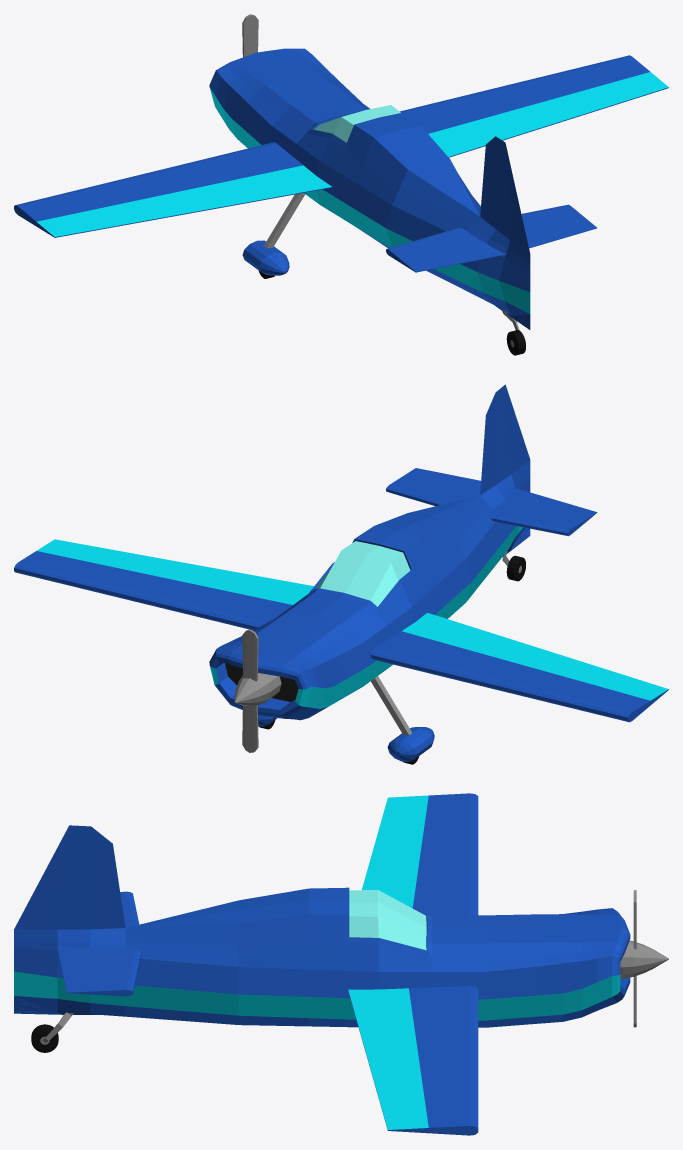
3 renders of one model, top to bottom at view 1: azimuth 30°, elevation 25°; view 2: azimuth 150°, elevation 25°; view 3: azimuth 270°, elevation 25°, orthographic. The views are drawn at different scales.
Parts seen in each view (by area): view 1: Cylinder, Cube.001; view 2: Cylinder, Cube.001; view 3: Cylinder, Cylinder.003.
Part boxes in pixels (x1,y1,x2,y2): Cylinder: (14, 48, 668, 329); Cube.001: (242, 14, 258, 57); Cylinder: (14, 384, 668, 761); Cube.001: (242, 629, 258, 752); Cylinder: (14, 793, 668, 1135); Cylinder.003: (31, 1024, 58, 1052).
Bounding box in the file's own units: 1042 × 388 × 867.
